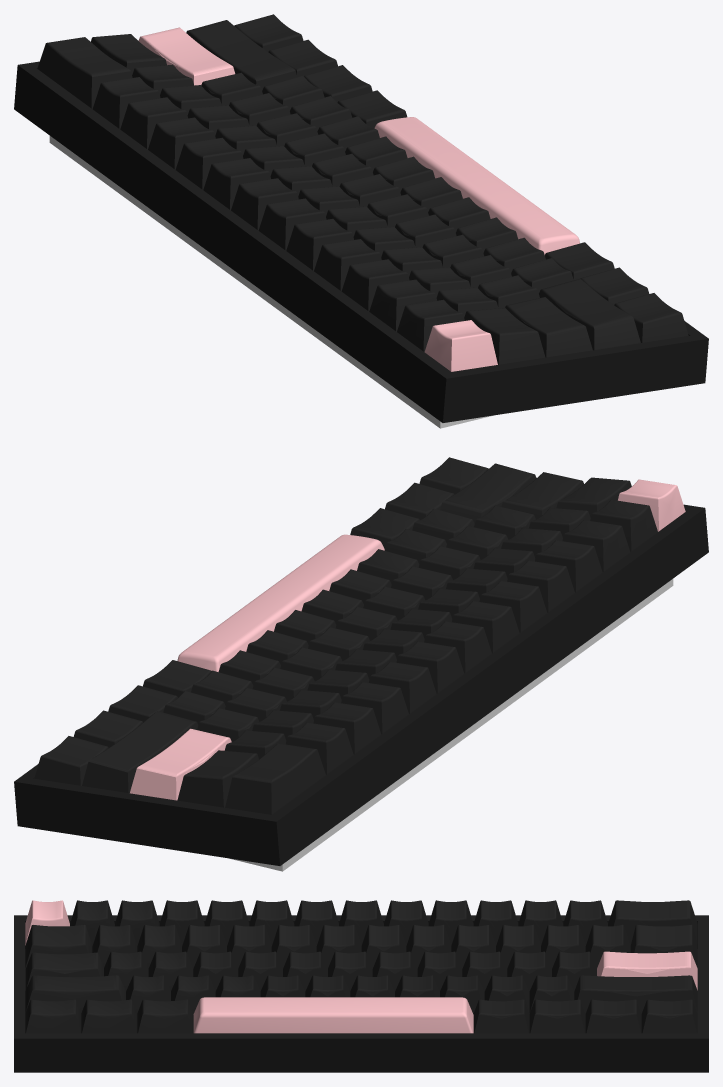
The model's file is keyboard.glb.
3 renders of one model, top to bottom at view 1: azimuth 30°, elevation 25°; view 2: azimuth 150°, elevation 25°; view 3: azimuth 270°, elevation 25°, orthographic. The views are drawn at different scales.
Visible parts, largest first — view 1: Cube.062, Cube.059, Cube.013, Cube.057, Cube.042, Cube.040, Cube.028, Cube, Cube.041, Cube.027, Cube.056, Cube.006 (+50 smaller); view 2: Cube.062, Cube.059, Cube.013, Cube.042, Cube.041, Cube.040, Cube.057, Cube.026, Cube.054, Cube.028, Cube.014, Cube.008 (+50 smaller); view 3: Cube.062, Cube.059, Cube.042, Cube.057, Cube.041, Cube.013, Cube.027, Cube.053, Cube.055, Cube.058, Cube.061, Cube.054 (+49 smaller).
Part boxes in pixels (x1,y1,x2,y2): Cube.062: [14, 61, 708, 422]; Cube.059: [374, 117, 614, 280]; Cube.013: [37, 37, 132, 108]; Cube.057: [539, 278, 640, 350]; Cube.042: [186, 20, 297, 90]; Cube.040: [49, 136, 492, 428]; Cube.028: [505, 297, 592, 357]; Cube: [424, 320, 497, 371]; Cube.041: [138, 27, 235, 85]; Cube.027: [464, 308, 545, 364]; Cube.056: [614, 293, 688, 342]; Cube.006: [258, 198, 326, 250]; Cube.062: [14, 504, 708, 865]; Cube.059: [177, 508, 419, 671]; Cube.013: [225, 743, 325, 814]; Cube.042: [82, 711, 198, 793]; Cube.041: [130, 728, 231, 800]; Cube.040: [230, 579, 673, 871]; Cube.057: [440, 463, 536, 523]; Cube.026: [177, 750, 258, 807]; Cube.054: [34, 736, 108, 785]; Cube.028: [501, 472, 583, 519]; Cube.014: [286, 722, 353, 774]; Cube.008: [396, 641, 464, 693]; Cube.062: [14, 915, 708, 1072]; Cube.059: [137, 997, 473, 1033]; Cube.042: [574, 975, 697, 1013]; Cube.057: [25, 975, 125, 1013]; Cube.041: [597, 951, 697, 990]; Cube.013: [608, 900, 697, 945]; Cube.027: [25, 925, 92, 968]; Cube.053: [585, 999, 641, 1033]; Cube.055: [529, 999, 585, 1033]; Cube.058: [81, 999, 137, 1033]; Cube.061: [473, 999, 529, 1033]; Cube.054: [641, 999, 697, 1033].
Bounding box in the file's own units: 11.11 × 3.78 × 31.
